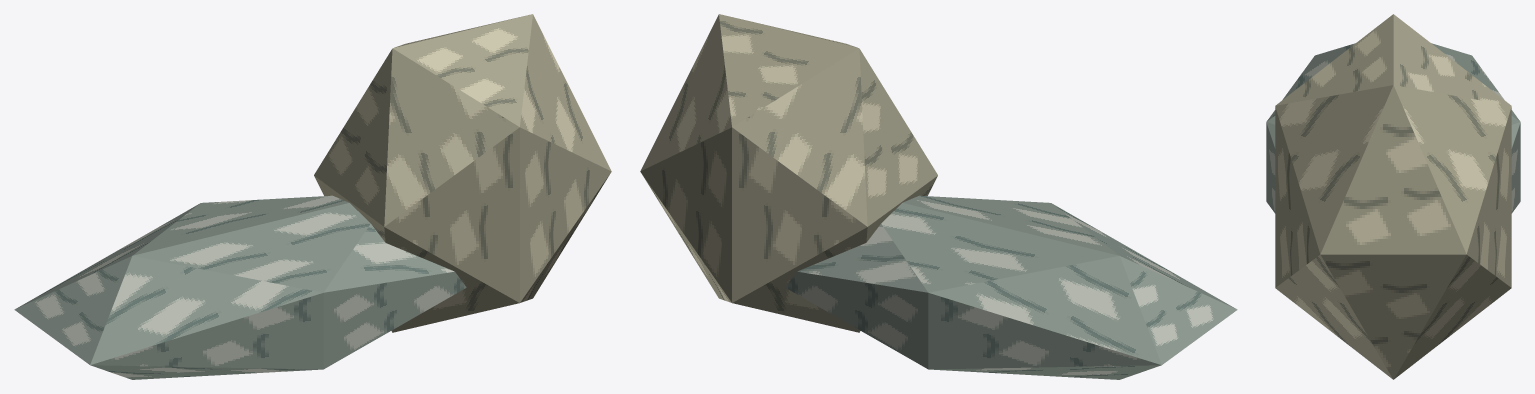
The model's file is pedra-dorso-v01.gltf.
3 views of the same model, side by side, from view 1: azimuth 30°, elevation 25°; view 2: azimuth 150°, elevation 25°; view 3: azimuth 270°, elevation 25° (orthographic). The views are drawn at different scales.
Parts seen in each view (by area): view 1: forma; view 2: forma; view 3: forma.
Part boxes in pixels (left/top/right/bottom): forma: left=14, top=14, right=611, bottom=379; forma: left=640, top=14, right=1237, bottom=379; forma: left=1266, top=14, right=1520, bottom=379.
Bounding box in the file's own units: 1.8 × 0.9357 × 0.7316.
Materials: 1 (1 with a texture image).
